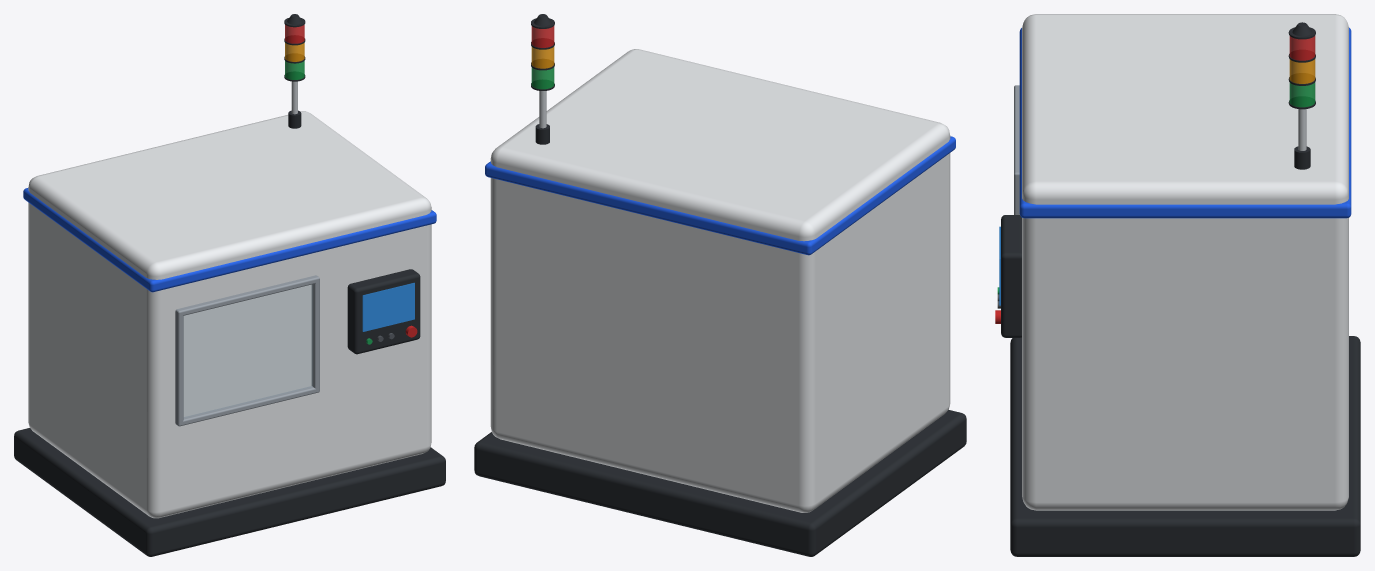
The model's file is generic-machine.glb.
The picture shows the model from 3 angles, left to right: view 1: azimuth 30°, elevation 25°; view 2: azimuth 150°, elevation 25°; view 3: azimuth 270°, elevation 25°; orthographic projection. The views are drawn at different scales.
Parts seen in each view (by area): view 1: generic_machine_paint_white, generic_machine_graphite, generic_machine_glass, generic_machine_accent_blue, generic_machine_paint_grey, generic_machine_screen; view 2: generic_machine_paint_white, generic_machine_graphite, generic_machine_accent_blue; view 3: generic_machine_paint_white, generic_machine_graphite, generic_machine_accent_blue, generic_machine_paint_grey, andon_amber, andon_green, andon_red.
Boxes of the visible parts, x1,y1,x2,y2 form: generic_machine_paint_white: (28,111,431,518); generic_machine_graphite: (14,14,445,556); generic_machine_glass: (184,284,312,417); generic_machine_accent_blue: (23,188,436,292); generic_machine_paint_grey: (175,275,319,426); generic_machine_screen: (362,282,414,331); generic_machine_paint_white: (490,49,950,512); generic_machine_graphite: (474,14,966,556); generic_machine_accent_blue: (485,136,955,255); generic_machine_paint_white: (1022,14,1348,510); generic_machine_graphite: (1001,22,1360,556); generic_machine_accent_blue: (1019,27,1351,218); generic_machine_paint_grey: (1014,85,1019,214); andon_amber: (1289,59,1315,83); andon_green: (1289,82,1315,107); andon_red: (1289,36,1315,60).
Bounding box in the file's own units: 1.9 × 2.41 × 1.56.
